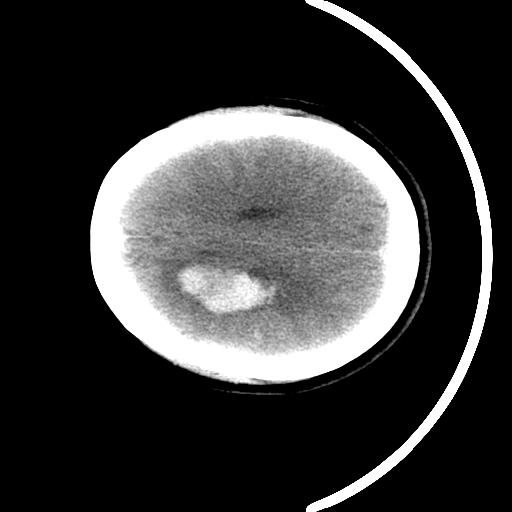a: (153, 245, 302, 331)
